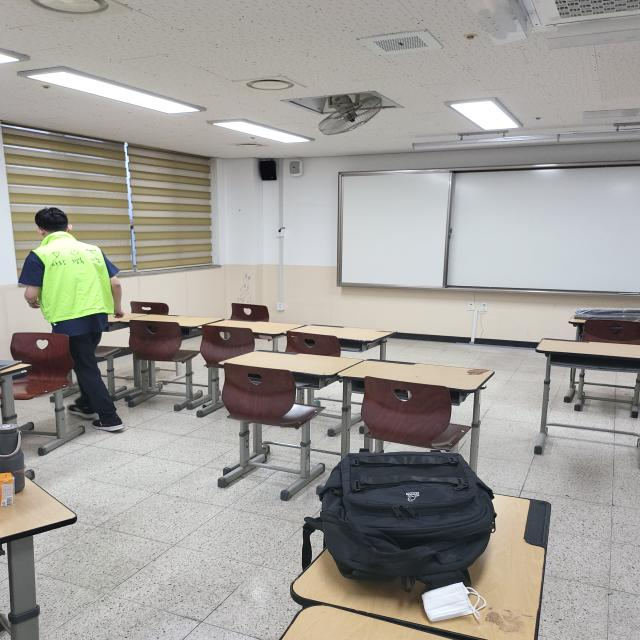weston_spy: (27, 225, 125, 328)
